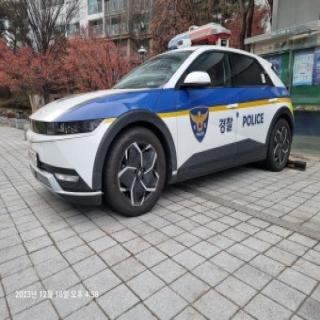Police_car: (25, 21, 293, 218)
